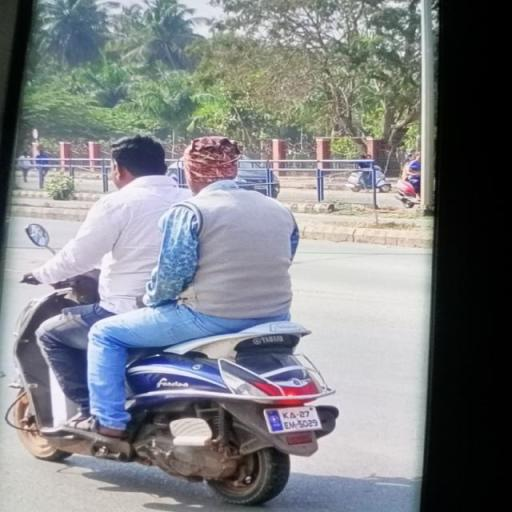bike: (11, 126, 361, 506)
numberplate: (260, 398, 328, 437)
withouthelmet: (180, 136, 238, 186), (106, 138, 162, 180)
